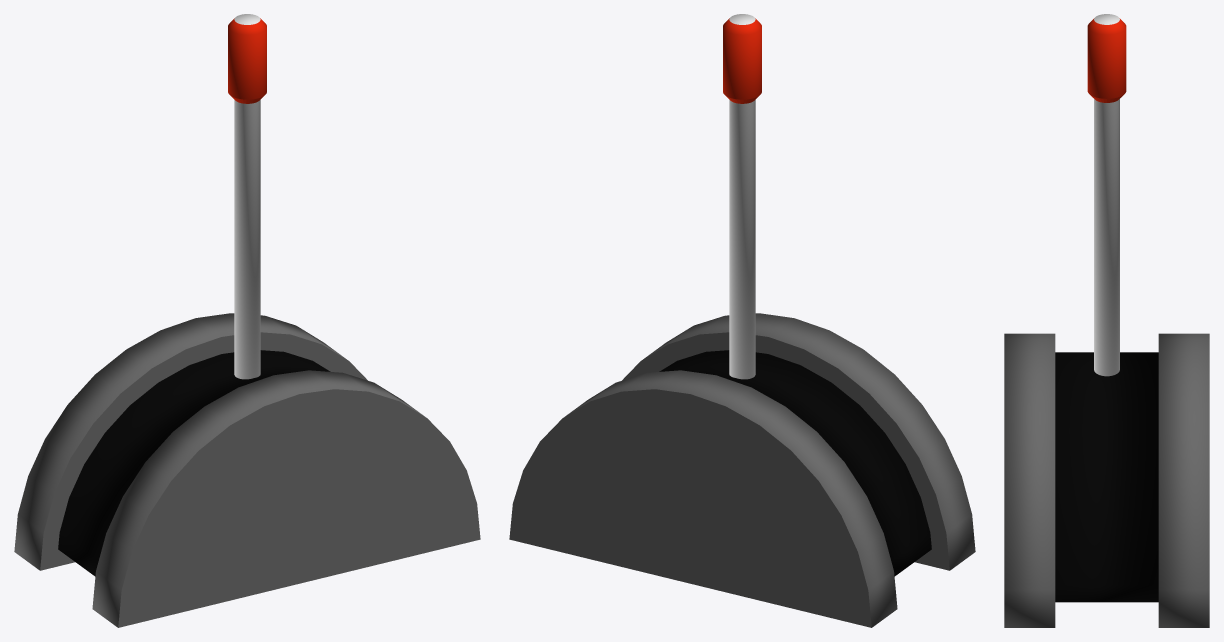
Rendered from lever.fbx.
3 views of the same model, side by side, from view 1: azimuth 30°, elevation 25°; view 2: azimuth 150°, elevation 25°; view 3: azimuth 270°, elevation 25° (orthographic).
Visible parts, largest first — view 1: Cylinder, Cylinder.001; view 2: Cylinder, Cylinder.001; view 3: Cylinder, Cylinder.001.
Boxes of the visible parts, x1,y1,x2,y2 form: Cylinder: [14, 313, 480, 627]; Cylinder.001: [228, 14, 266, 379]; Cylinder: [509, 313, 975, 627]; Cylinder.001: [723, 14, 761, 379]; Cylinder: [1004, 333, 1209, 627]; Cylinder.001: [1087, 14, 1126, 376].
Size of the model in its own units: 200 by 278 by 99.24.
